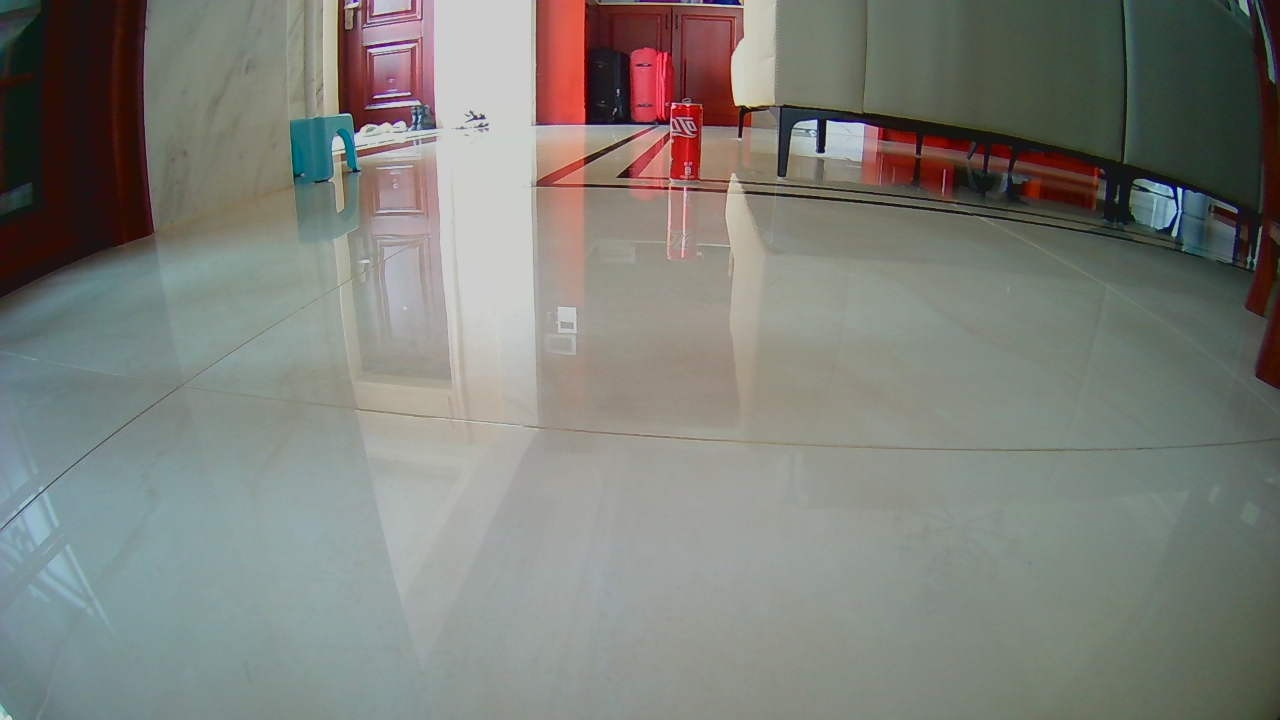cola: (664, 98, 707, 185)
